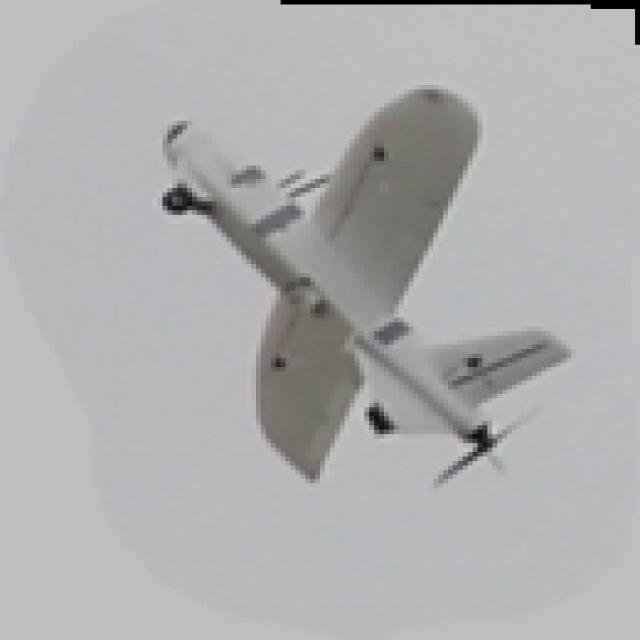iha: (162, 21, 566, 474)
